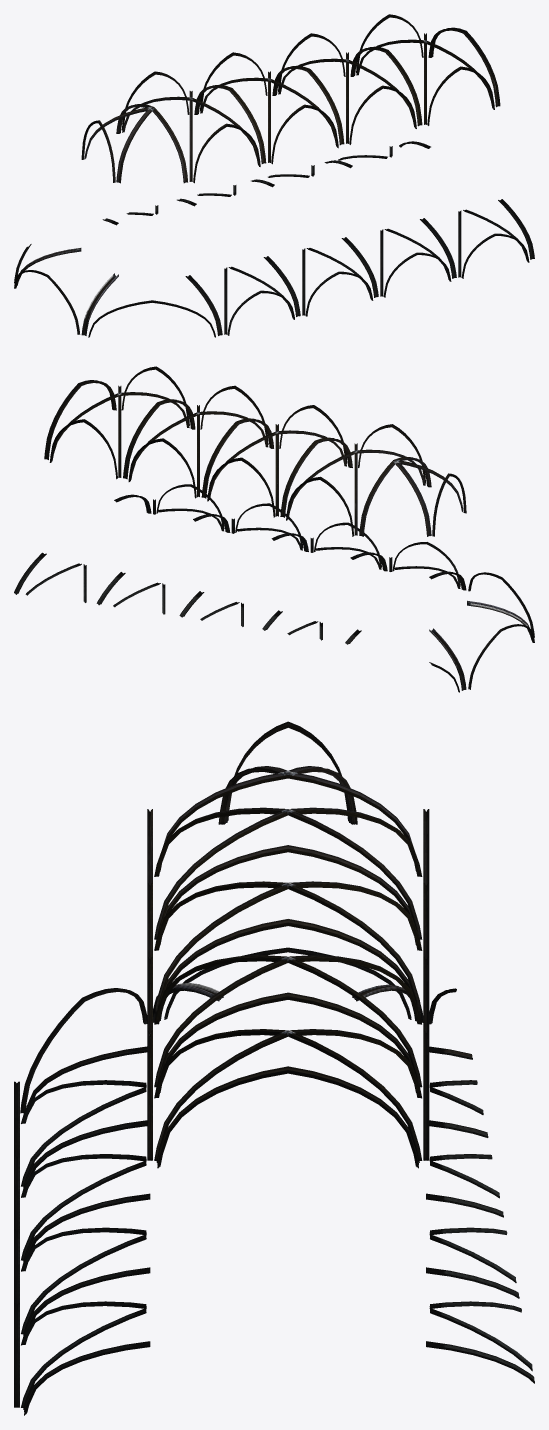
File: RoofDetail.obj
3 renders of one model, top to bottom at view 1: azimuth 30°, elevation 25°; view 2: azimuth 150°, elevation 25°; view 3: azimuth 270°, elevation 25°, orthographic. The views are drawn at different scales.
Parts seen in each view (by area): view 1: Circle.055_0.002; view 2: Circle.055_0.002; view 3: Circle.055_0.002.
Part boxes in pixels (x1,y1,x2,y2): Circle.055_0.002: (14, 14, 534, 337); Circle.055_0.002: (14, 366, 534, 692); Circle.055_0.002: (14, 721, 534, 1415).
Bounding box in the file's own units: 37.04 × 14.98 × 20.5.
